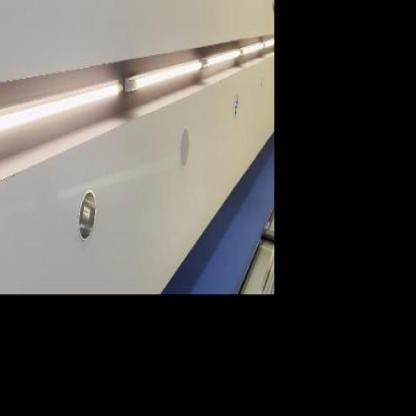light_on: (0, 55, 126, 188), (126, 57, 204, 98), (202, 47, 241, 74), (239, 37, 263, 59), (263, 32, 274, 54)
